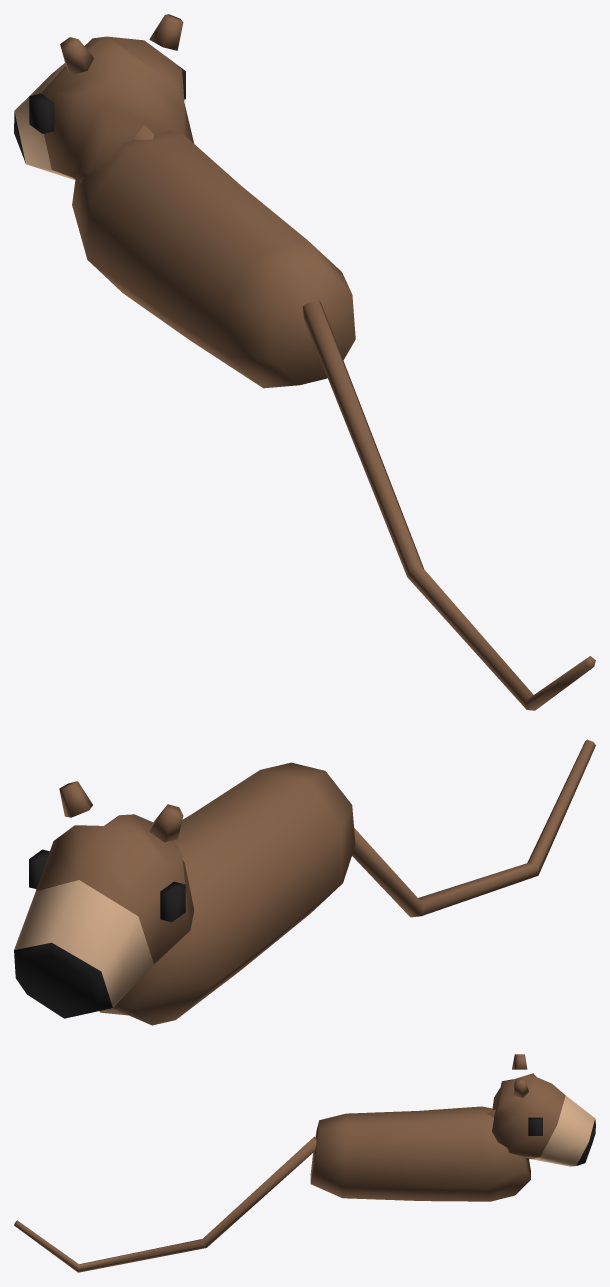
The model's file is animal_monkey.obj.
3 views of the same model, one above another, from view 1: azimuth 30°, elevation 25°; view 2: azimuth 150°, elevation 25°; view 3: azimuth 270°, elevation 25° (orthographic). The views are drawn at different scales.
Parts seen in each view (by area): view 1: animal_monkey_component_00, animal_monkey_component_02, animal_monkey_component_07, animal_monkey_component_03; view 2: animal_monkey_component_00, animal_monkey_component_02, animal_monkey_component_07, animal_monkey_component_03, animal_monkey_component_05, animal_monkey_component_06, animal_monkey_component_04; view 3: animal_monkey_component_00, animal_monkey_component_02, animal_monkey_component_07.
Part boxes in pixels (bbox=[...]): animal_monkey_component_00: bbox=[72, 130, 355, 388]; animal_monkey_component_02: bbox=[14, 36, 194, 183]; animal_monkey_component_07: bbox=[303, 300, 595, 710]; animal_monkey_component_03: bbox=[29, 93, 54, 133]; animal_monkey_component_00: bbox=[99, 762, 355, 1025]; animal_monkey_component_02: bbox=[14, 814, 194, 1018]; animal_monkey_component_07: bbox=[352, 739, 595, 917]; animal_monkey_component_03: bbox=[160, 881, 185, 921]; animal_monkey_component_05: bbox=[149, 804, 183, 842]; animal_monkey_component_06: bbox=[59, 781, 92, 817]; animal_monkey_component_04: bbox=[29, 849, 49, 888]; animal_monkey_component_00: bbox=[310, 1106, 530, 1201]; animal_monkey_component_02: bbox=[492, 1073, 595, 1166]; animal_monkey_component_07: bbox=[14, 1136, 316, 1272].
Size of the model in its own units: 0.1968 by 0.5035 by 1.29.
